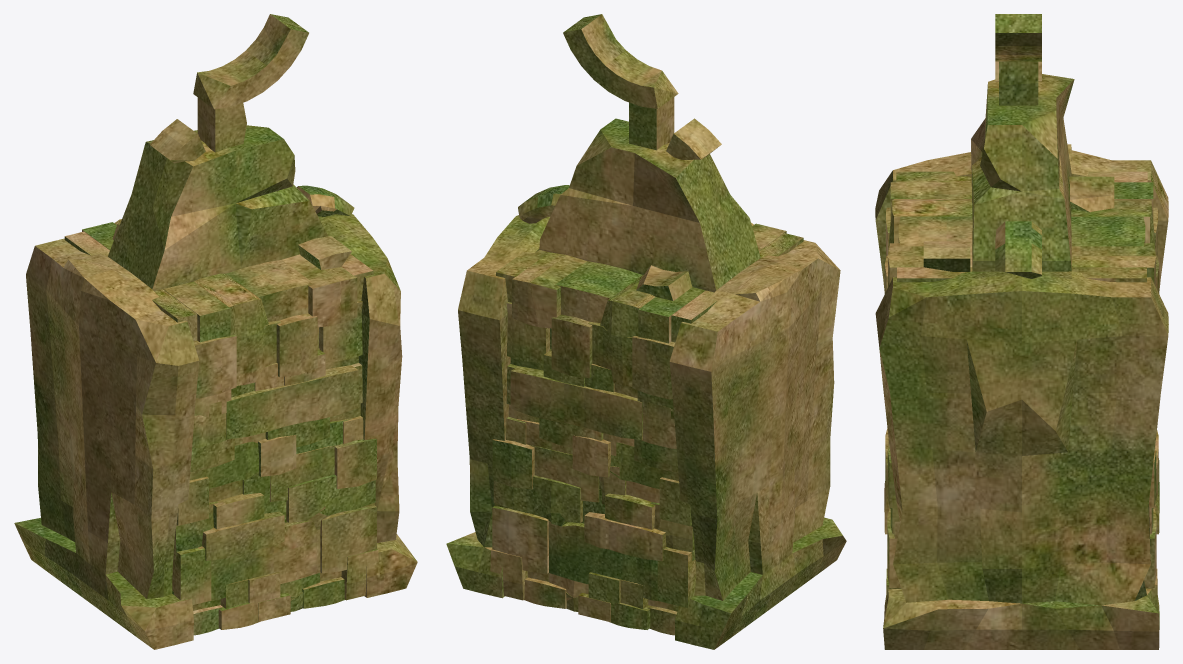
File: stone_1.fbx
3 renders of one model, left to right at view 1: azimuth 30°, elevation 25°; view 2: azimuth 150°, elevation 25°; view 3: azimuth 270°, elevation 25°, orthographic. The views are drawn at different scales.
Visible parts, largest first — view 1: Circle.007; view 2: Circle.007; view 3: Circle.007.
Boxes of the visible parts, x1,y1,x2,y2 form: Circle.007: (14, 14, 417, 649); Circle.007: (446, 14, 846, 649); Circle.007: (875, 14, 1168, 649).
Size of the model in its own units: 1452 by 2573 by 1140.
